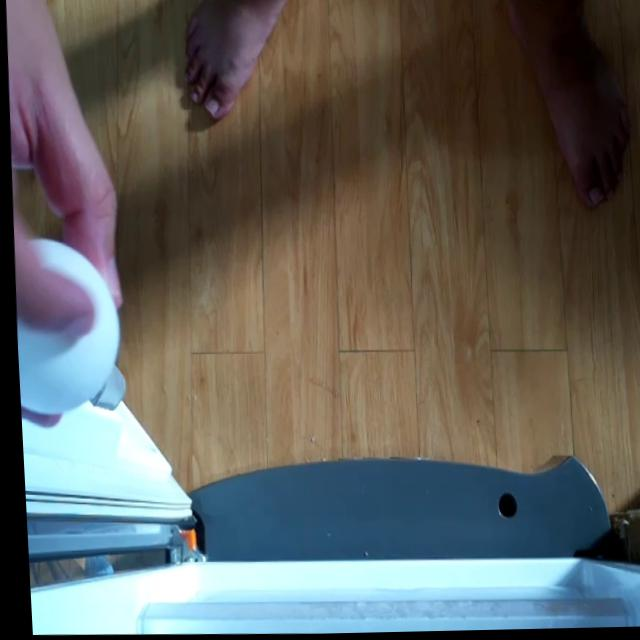egg: (10, 236, 120, 412)
